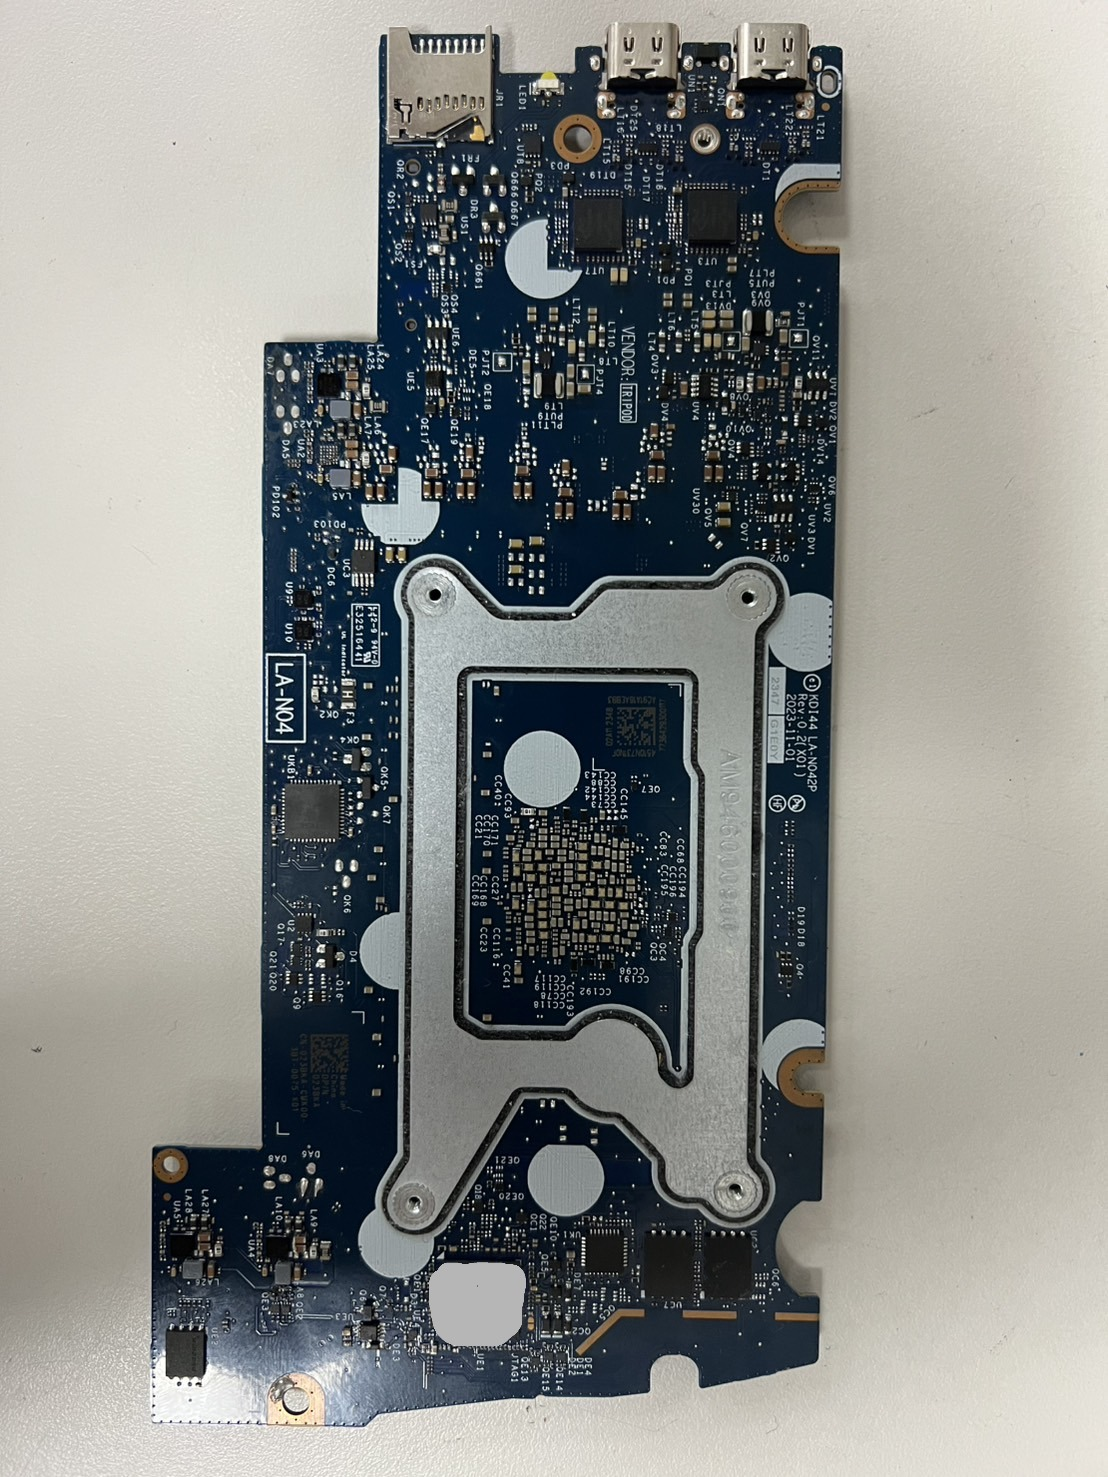error-missing: (424, 1251, 527, 1351), (314, 438, 343, 470)
